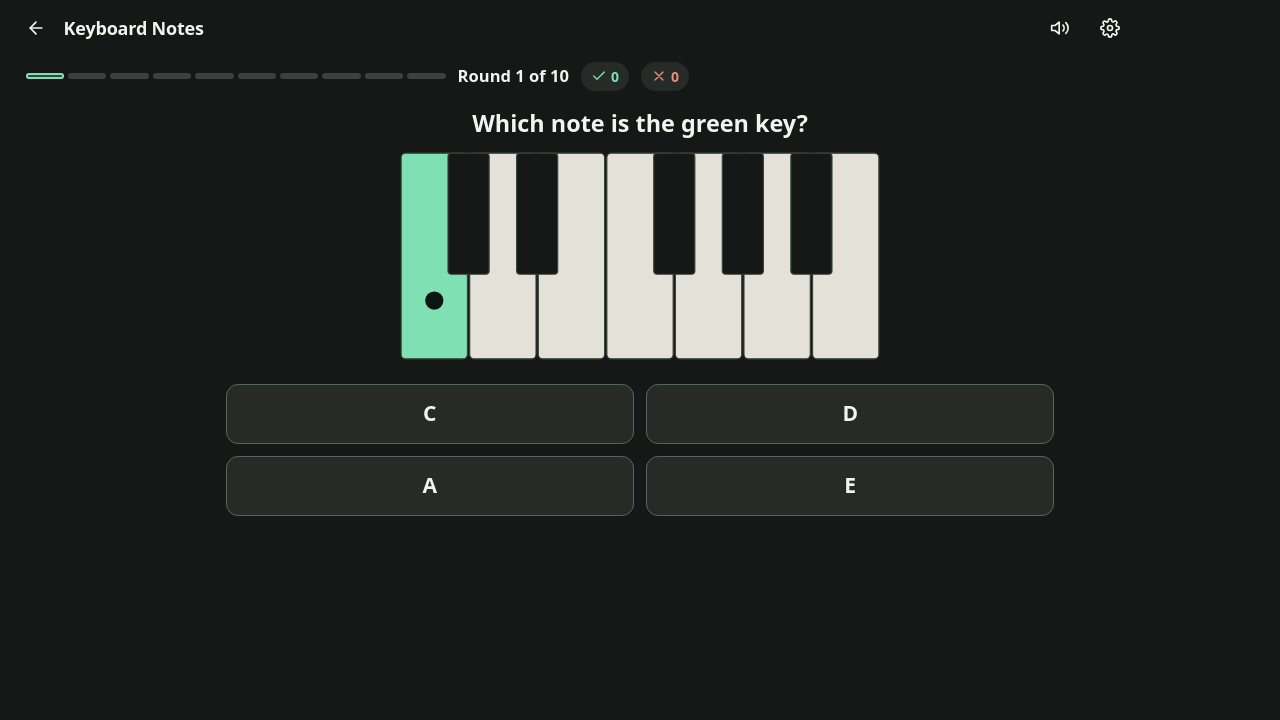
Test case: feedback below 1000 px › scrolls without animation under reduced motion, and not at all when the feedback is in view
Step 1. Click the button "C" → (430, 414), box [226,384,634,444]
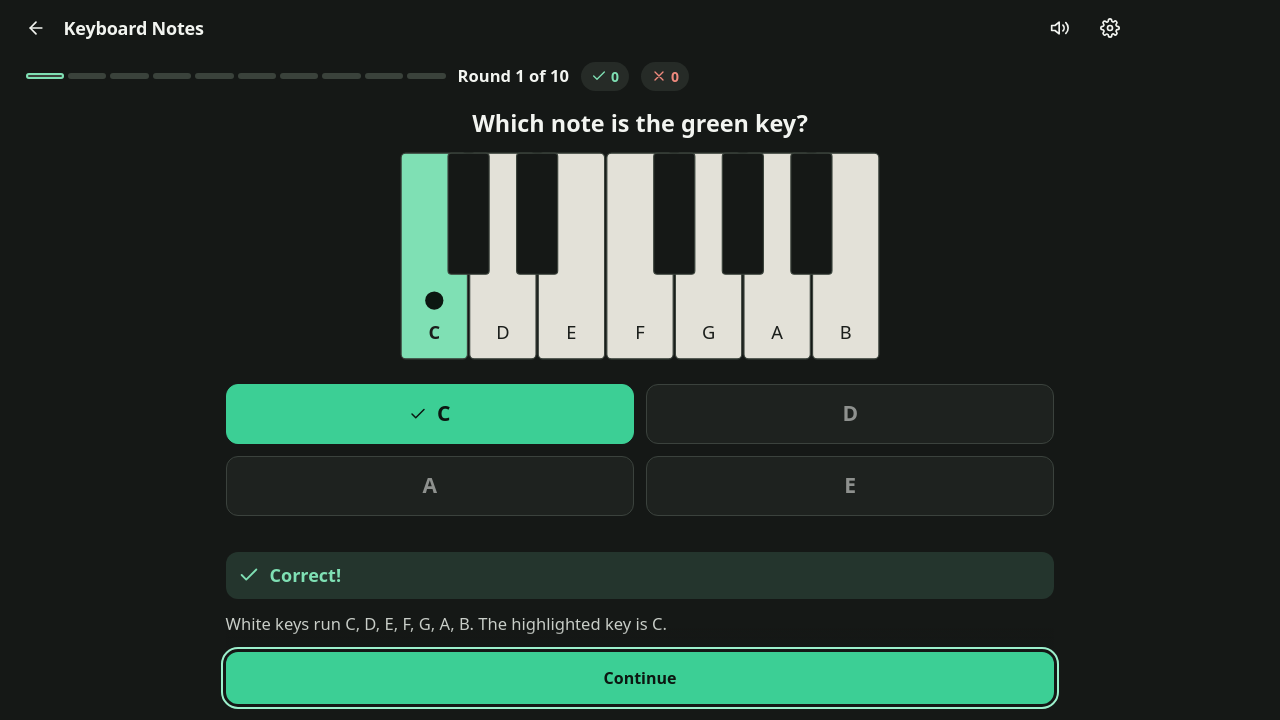
Step 2. Click the button "Continue" → (640, 678), box [226,652,1054,704]
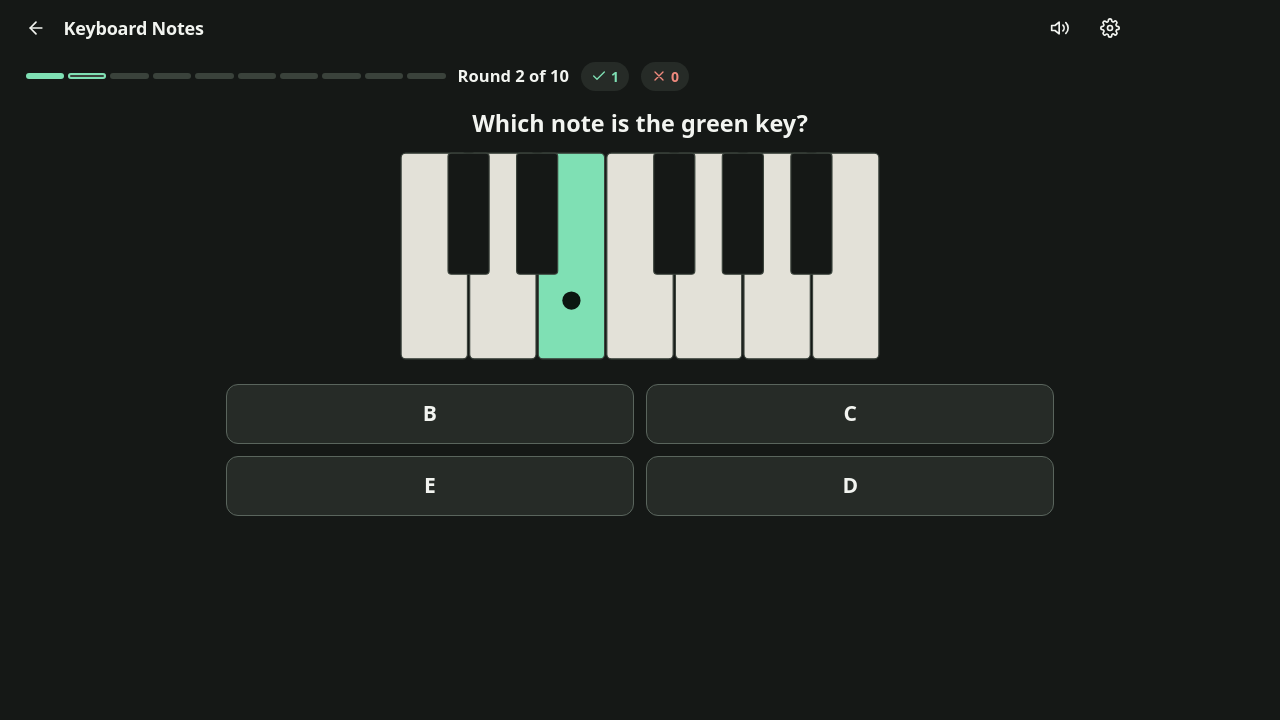
Step 3. Click the button "B" → (430, 414), box [226,384,634,444]
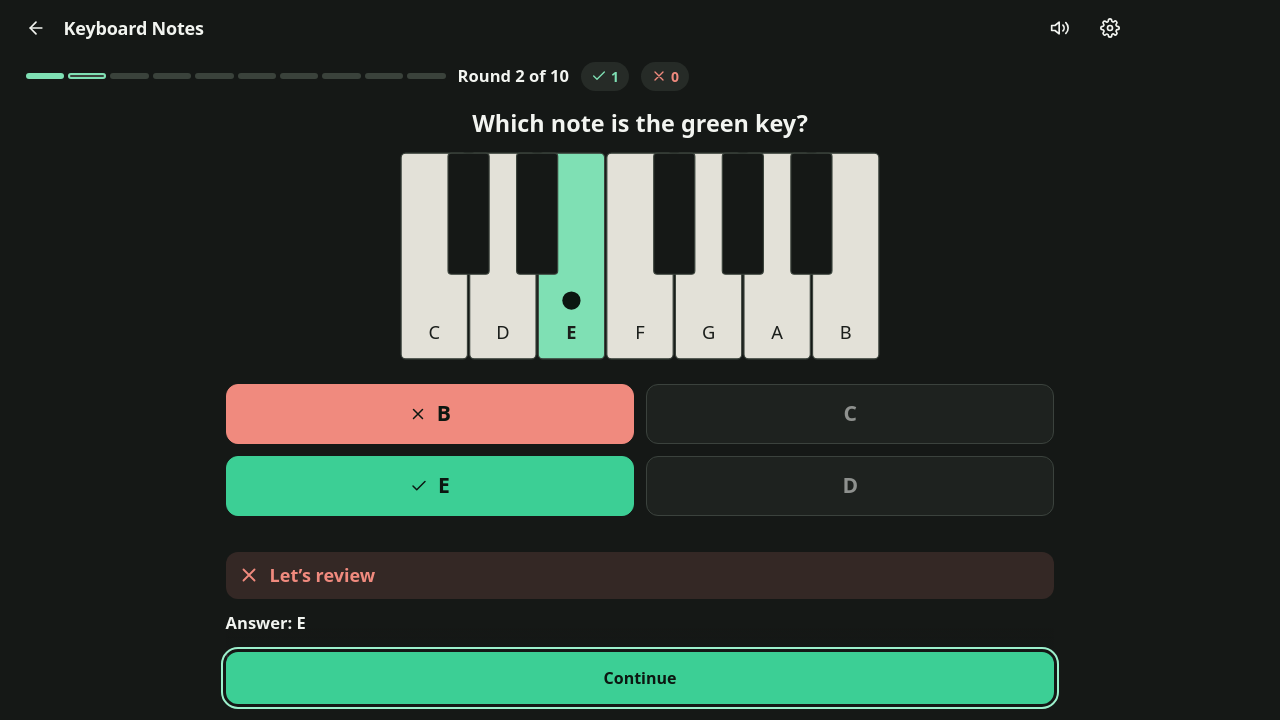
Result: the message is shown at [226,552,1054,673]
